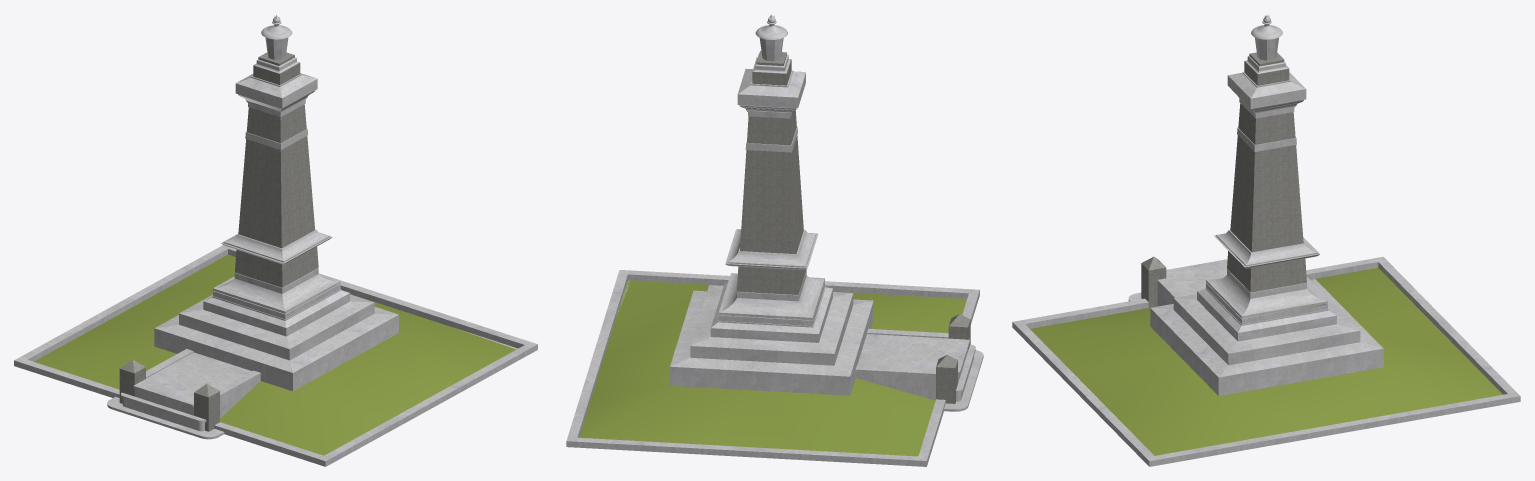
The model's file is Monument1.fbx.
3 renders of one model, left to right at view 1: azimuth 30°, elevation 25°; view 2: azimuth 150°, elevation 25°; view 3: azimuth 270°, elevation 25°, orthographic. The views are drawn at different scales.
Parts seen in each view (by area): view 1: Model, Group1; view 2: Model, Group1; view 3: Model, Group1.
Part boxes in pixels (x1,y1,x2,y2): Model: (14,21,537,466); Group1: (34,254,516,455); Model: (566,21,983,466); Group1: (579,280,966,456); Model: (1012,21,1520,466); Group1: (1030,268,1502,455).
Bounding box in the file's own units: 7.59 × 6.06 × 7.97.
